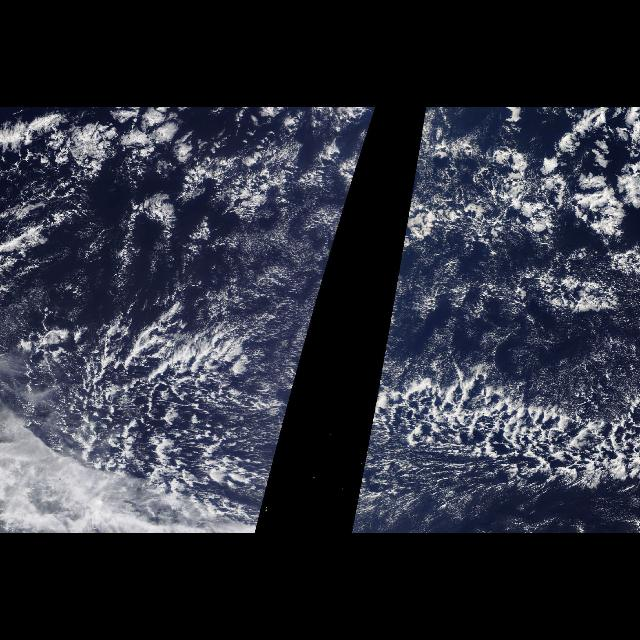Fish: (356, 358, 640, 498)
Flower: (403, 107, 639, 247)
Gravel: (4, 310, 262, 470), (368, 365, 632, 493), (407, 116, 567, 236)
Sugar: (404, 250, 544, 356)
